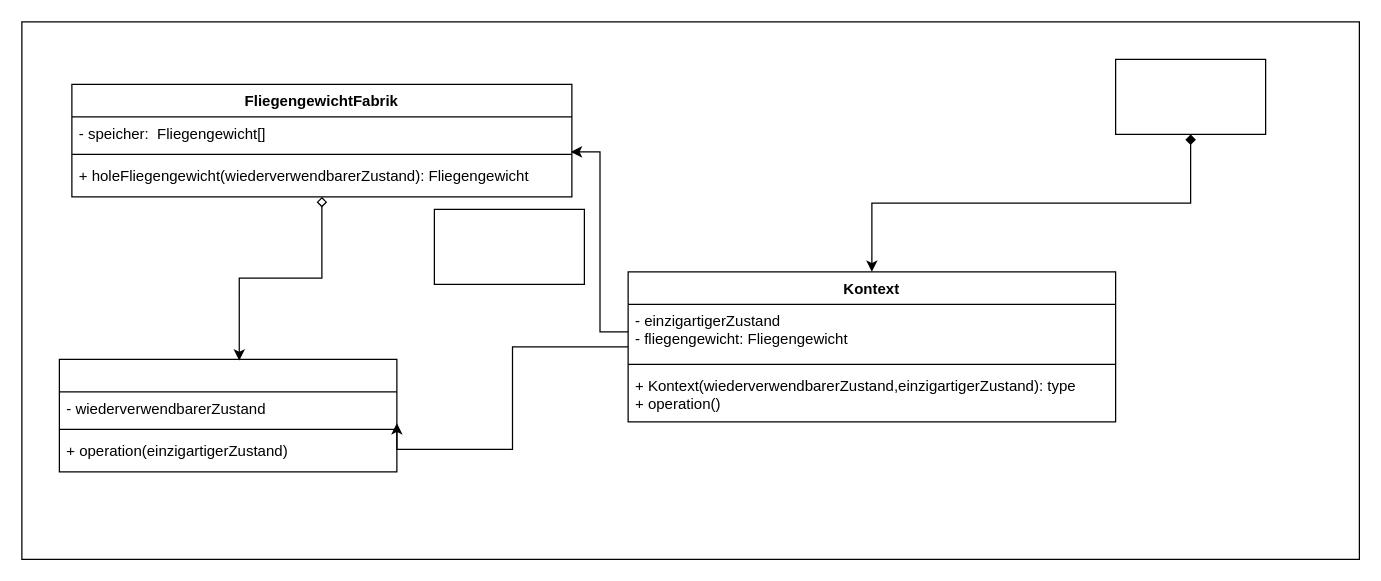
The diagram is 1381 pixels wide and 581 high, and some of its shapes have lost their labels. The box of each missing label's shape, as (x1, y1, x2, y2) in pixels:
Client: (1114, 58, 1266, 134)
Fliegengewicht: (58, 358, 397, 472)
